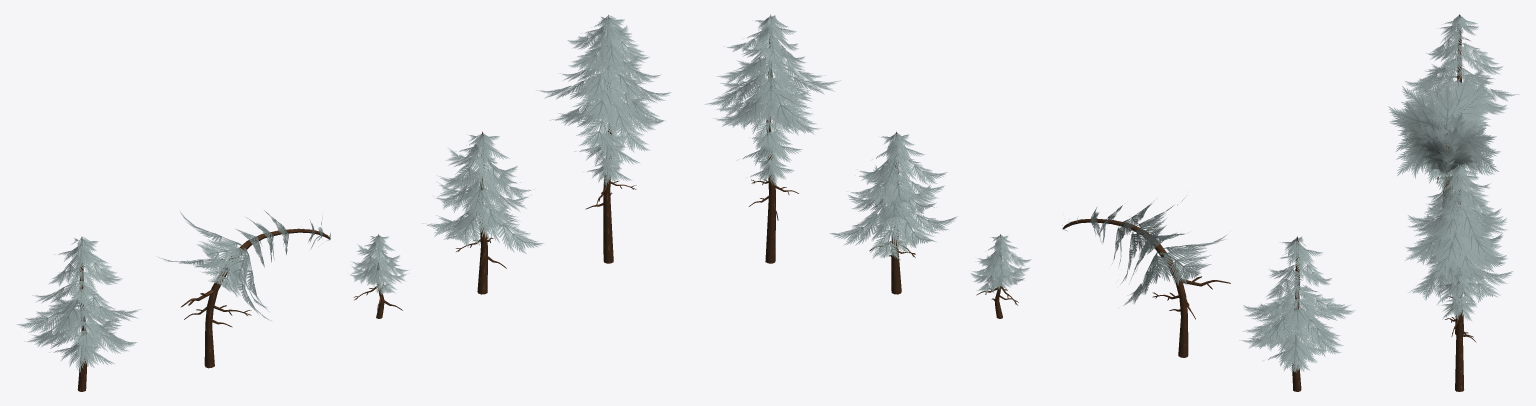
File: skyline-pine.glb
The picture shows the model from 3 angles, left to right: view 1: azimuth 30°, elevation 25°; view 2: azimuth 150°, elevation 25°; view 3: azimuth 270°, elevation 25°; orthographic projection. The views are drawn at different scales.
Visible parts, largest first — view 1: PineTree_2, PineTree_5, PineTree_1, PineTree_4, PineTree_3; view 2: PineTree_2, PineTree_1, PineTree_5, PineTree_4, PineTree_3; view 3: PineTree_2, PineTree_4, PineTree_5, PineTree_1.
Part boxes in pixels (<box>): PineTree_2: <box>536,15,671,263</box>; PineTree_5: <box>16,236,141,391</box>; PineTree_1: <box>422,131,544,294</box>; PineTree_4: <box>159,210,330,368</box>; PineTree_3: <box>350,234,408,318</box>; PineTree_2: <box>704,14,840,263</box>; PineTree_1: <box>829,131,957,294</box>; PineTree_5: <box>1239,236,1355,391</box>; PineTree_4: <box>1062,198,1230,357</box>; PineTree_3: <box>970,234,1030,318</box>; PineTree_2: <box>1405,164,1507,391</box>; PineTree_4: <box>1388,73,1500,208</box>; PineTree_5: <box>1405,14,1519,129</box>; PineTree_1: <box>1407,192,1513,334</box>.
Size of the model in its own units: 18.69 by 6.92 by 3.74.
2 materials, 2 textured.
